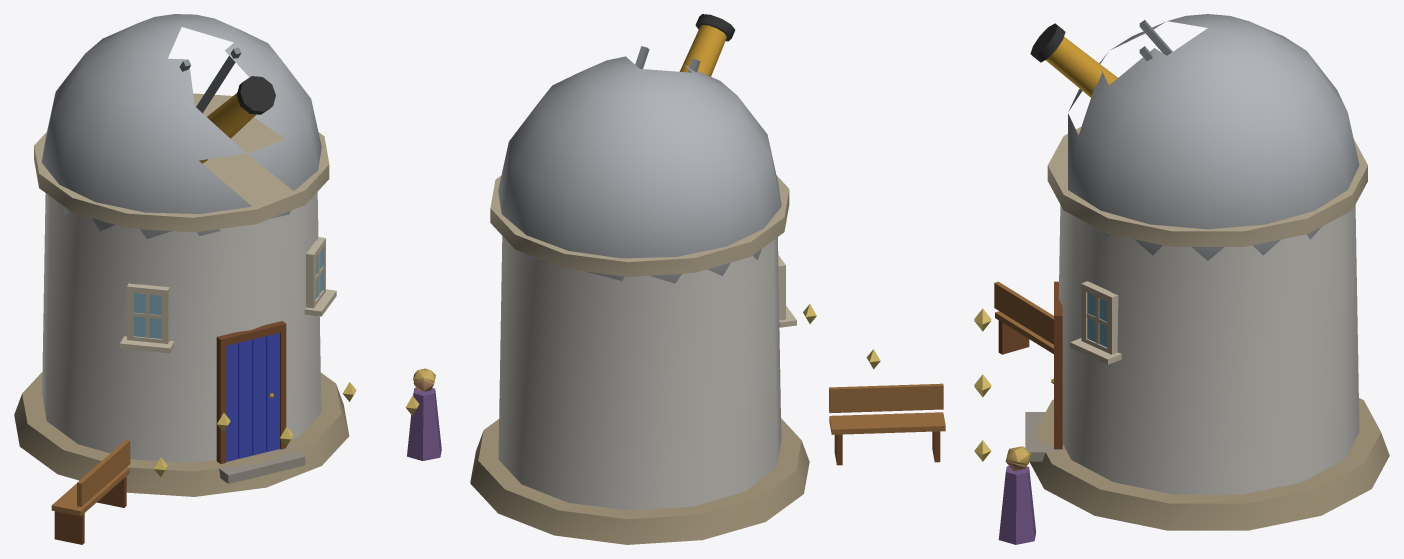
Rendered from observatory.glb.
3 views of the same model, side by side, from view 1: azimuth 30°, elevation 25°; view 2: azimuth 150°, elevation 25°; view 3: azimuth 270°, elevation 25° (orthographic). The views are drawn at different scales.
Visible parts, largest first — view 1: town-observatory; view 2: town-observatory; view 3: town-observatory.
Part boxes in pixels (x1=…): town-observatory: x1=14, y1=14, x2=441, y2=544; town-observatory: x1=470, y1=14, x2=945, y2=544; town-observatory: x1=974, y1=14, x2=1389, y2=544.
Bounding box in the file's own units: 5.53 × 5.48 × 4.8.
